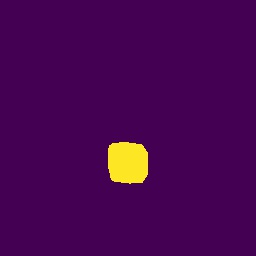Pituirity_tumour: (108, 142, 148, 184)
